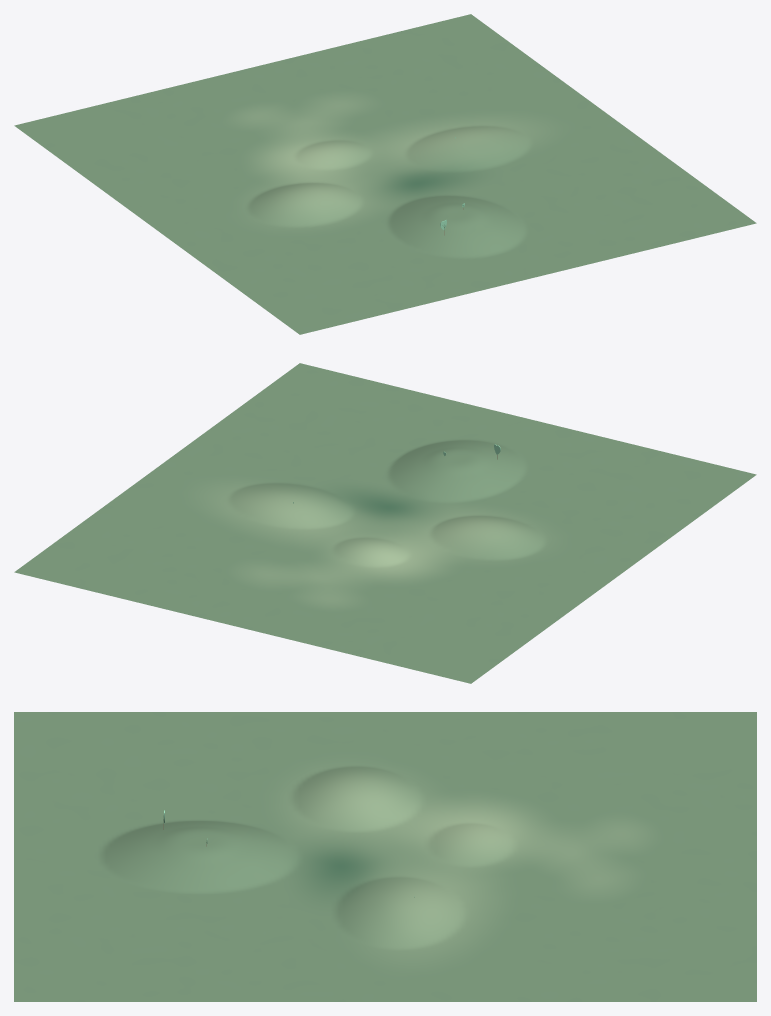
The model's file is cenario-colinas.glb.
3 renders of one model, top to bottom at view 1: azimuth 30°, elevation 25°; view 2: azimuth 150°, elevation 25°; view 3: azimuth 270°, elevation 25°, orthographic. The views are drawn at different scales.
Parts seen in each view (by area): view 1: Terreno_Colinas; view 2: Terreno_Colinas; view 3: Terreno_Colinas.
Boxes of the visible parts, x1,y1,x2,y2 form: Terreno_Colinas: (14, 14, 756, 334); Terreno_Colinas: (14, 363, 756, 683); Terreno_Colinas: (14, 712, 756, 1001).
Size of the model in its own units: 48 by 2.29 by 52.
